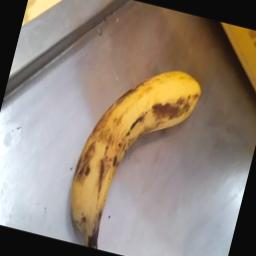Banana Overripe: (69, 71, 201, 248)
